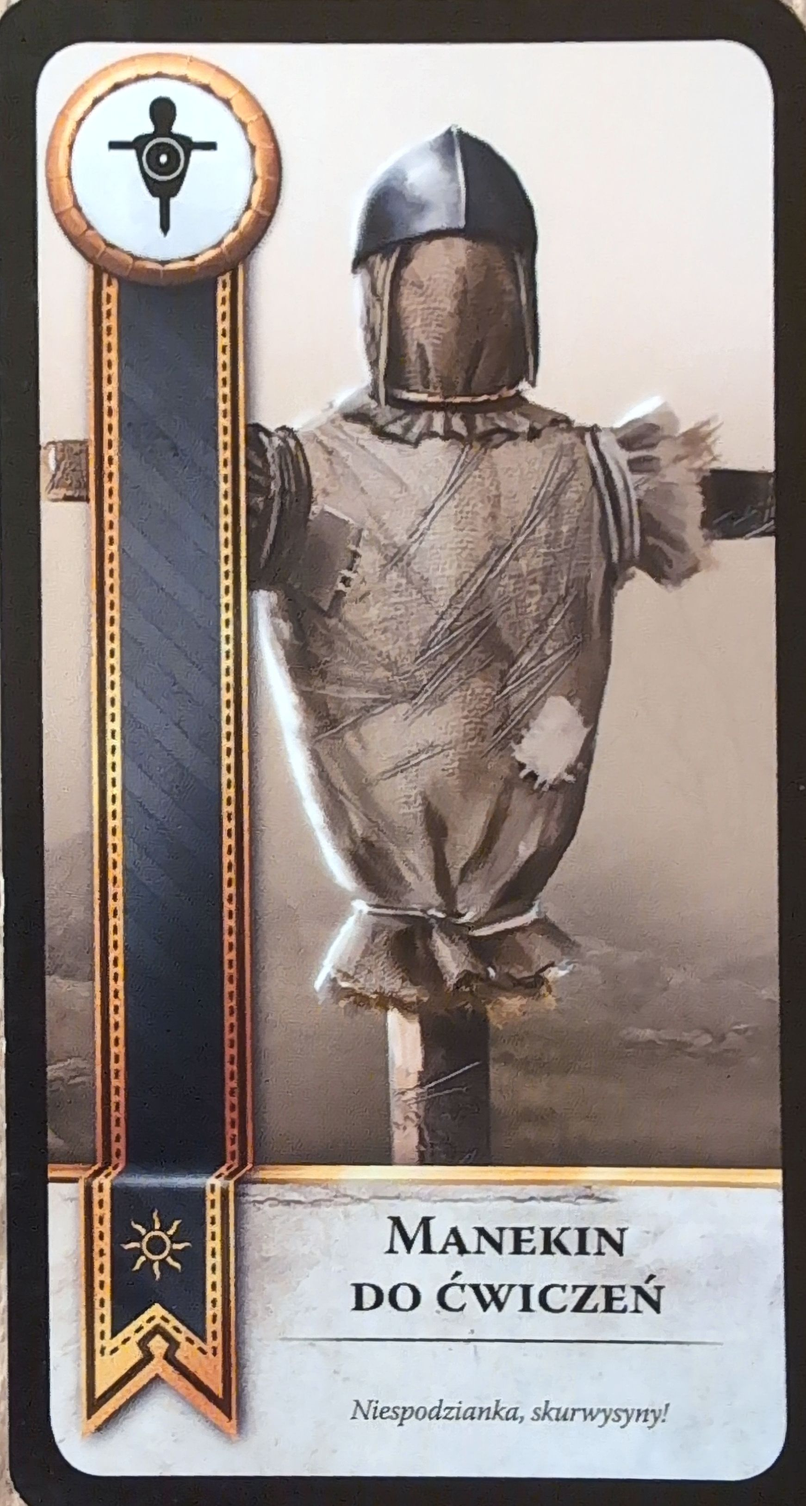manekin: (47, 55, 282, 282)
